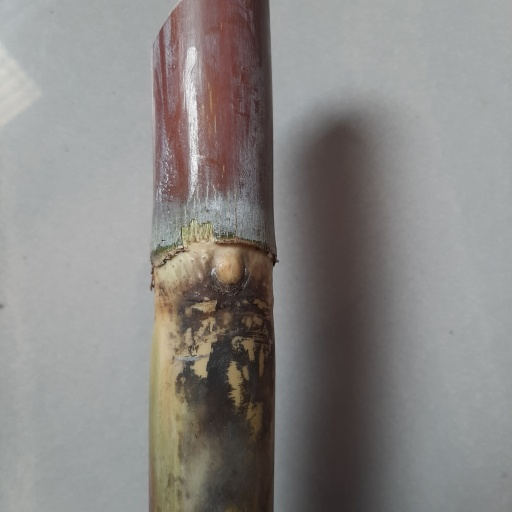Bud: (211, 248, 246, 289)
